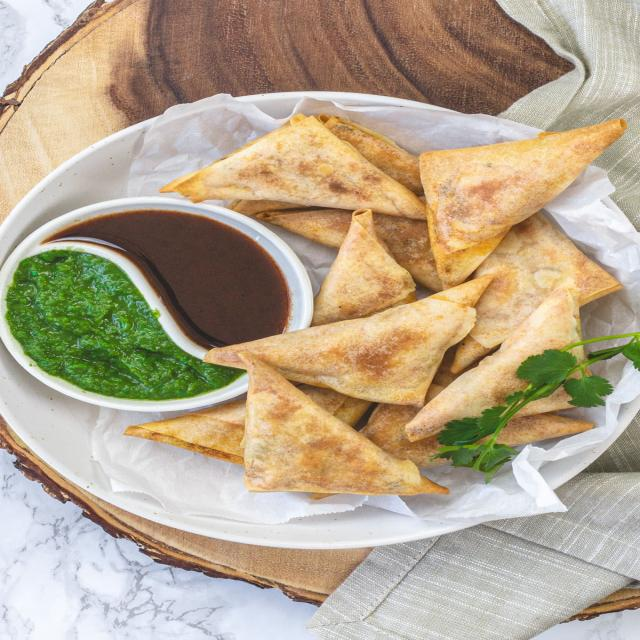SAMOSA: (180, 267, 496, 403), (389, 281, 597, 440), (426, 118, 629, 278), (156, 121, 437, 221), (456, 214, 621, 373), (257, 371, 453, 492), (317, 208, 423, 328), (320, 117, 435, 200), (455, 405, 608, 457), (122, 403, 251, 463), (368, 404, 446, 466), (274, 206, 355, 253)
